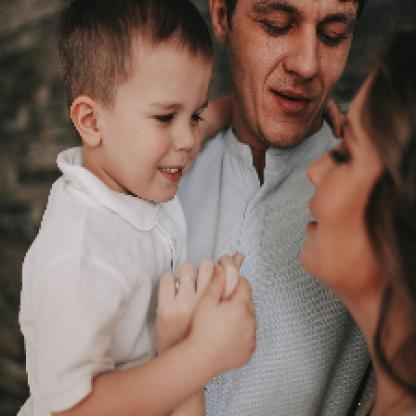child: (18, 1, 241, 415)
